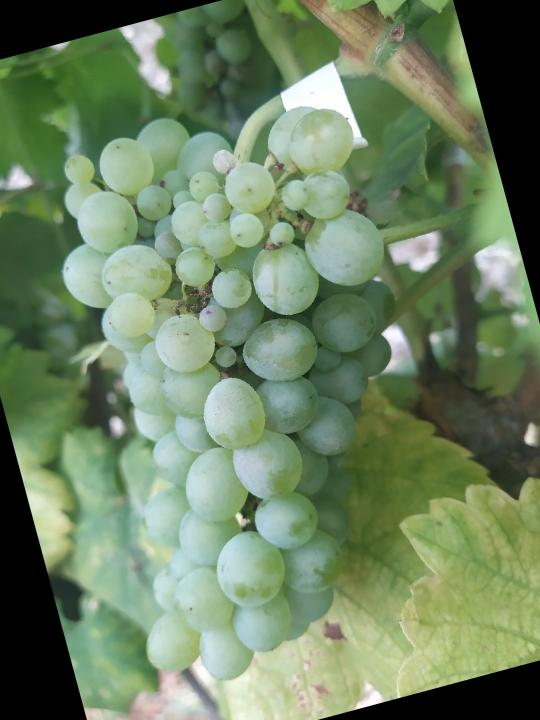grape: (11, 68, 486, 701)
